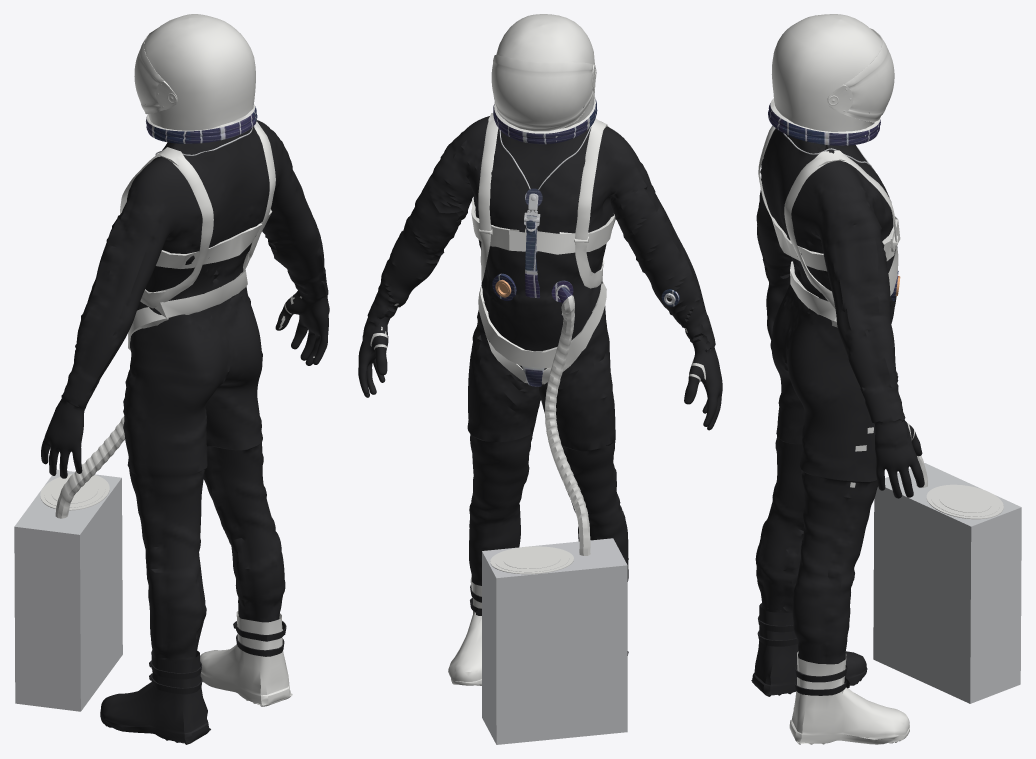
File: gemini-spacesuit.glb
The picture shows the model from 3 angles, left to right: view 1: azimuth 30°, elevation 25°; view 2: azimuth 150°, elevation 25°; view 3: azimuth 270°, elevation 25°; orthographic projection. The views are drawn at different scales.
Visible parts, largest first — view 1: GeminiSuit:polySurface1; view 2: GeminiSuit:polySurface1; view 3: GeminiSuit:polySurface1.
Boxes of the visible parts, x1,y1,x2,y2 form: GeminiSuit:polySurface1: [14, 14, 329, 744]; GeminiSuit:polySurface1: [358, 14, 722, 744]; GeminiSuit:polySurface1: [751, 14, 1021, 744].
Size of the model in its own units: 0.9953 by 2 by 0.7096.
Materials: 6 (1 with a texture image).
